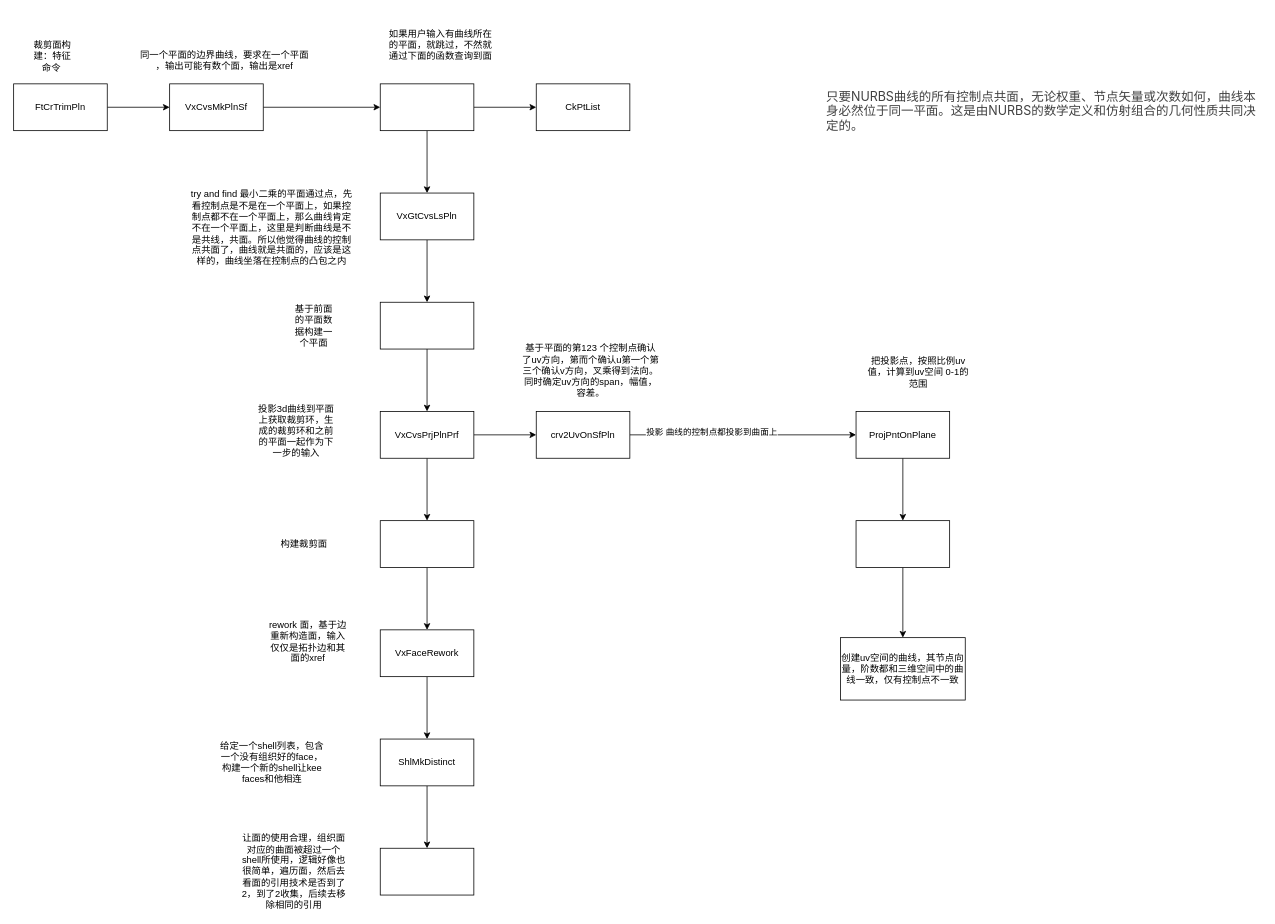
Image size: 1275x924. Some labels were removed from this diagram. The centre of each missing label's shape, as x and y in pixels:
RefCrv2SrfBnds: the point at 902,543
TrmFaceMkUnique: the point at 426,543
VxCkCvsCoPln: the point at 426,107
VxPrjBoxInfPln: the point at 426,325
VxShpUnshareSfs: the point at 426,871
